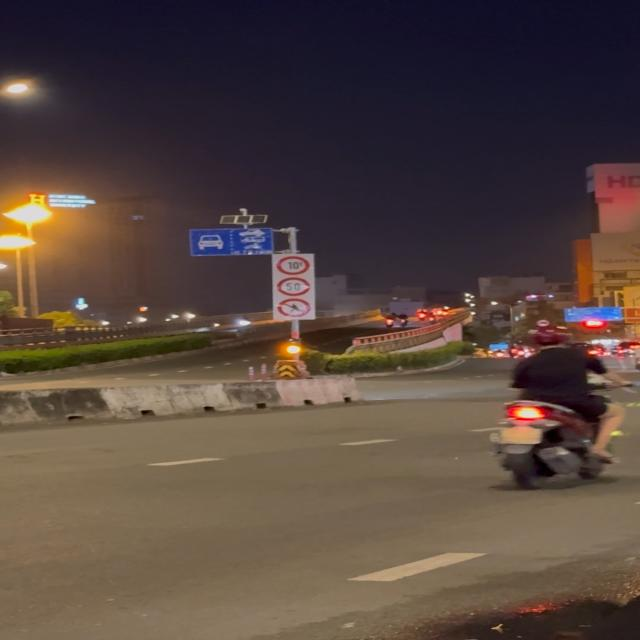Bien bao cam nguoi di bo: (276, 298, 313, 318)
Bien bao toc do toi da cho phep: (275, 276, 312, 298)
